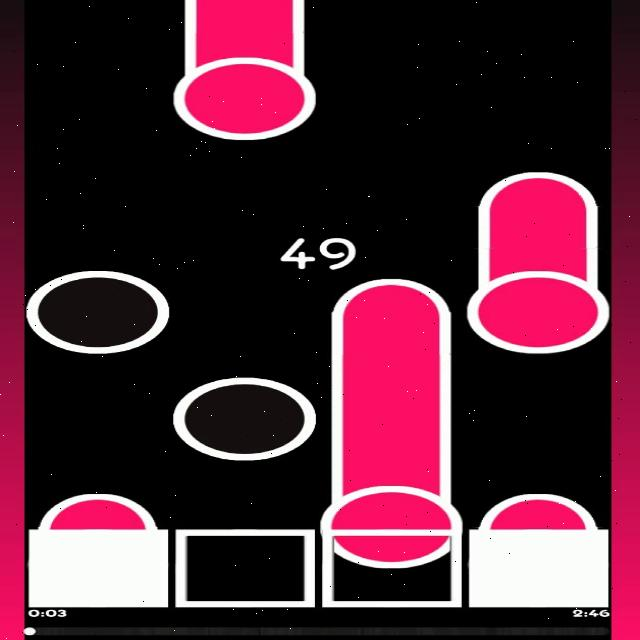end_hold: (474, 459, 600, 530), (38, 461, 163, 530), (478, 147, 602, 214), (324, 267, 456, 326)
note: (25, 270, 170, 355), (174, 376, 318, 459)
start_hold: (467, 246, 610, 355), (174, 36, 318, 142), (322, 472, 463, 568)
